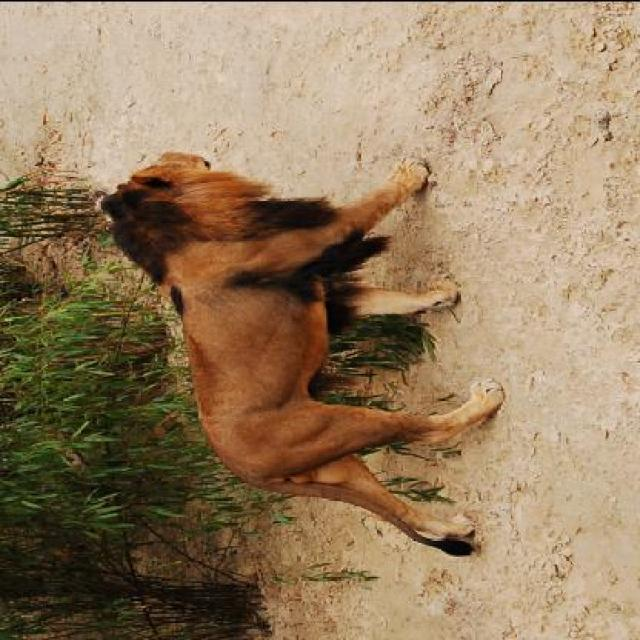Lion: (91, 138, 515, 570)
